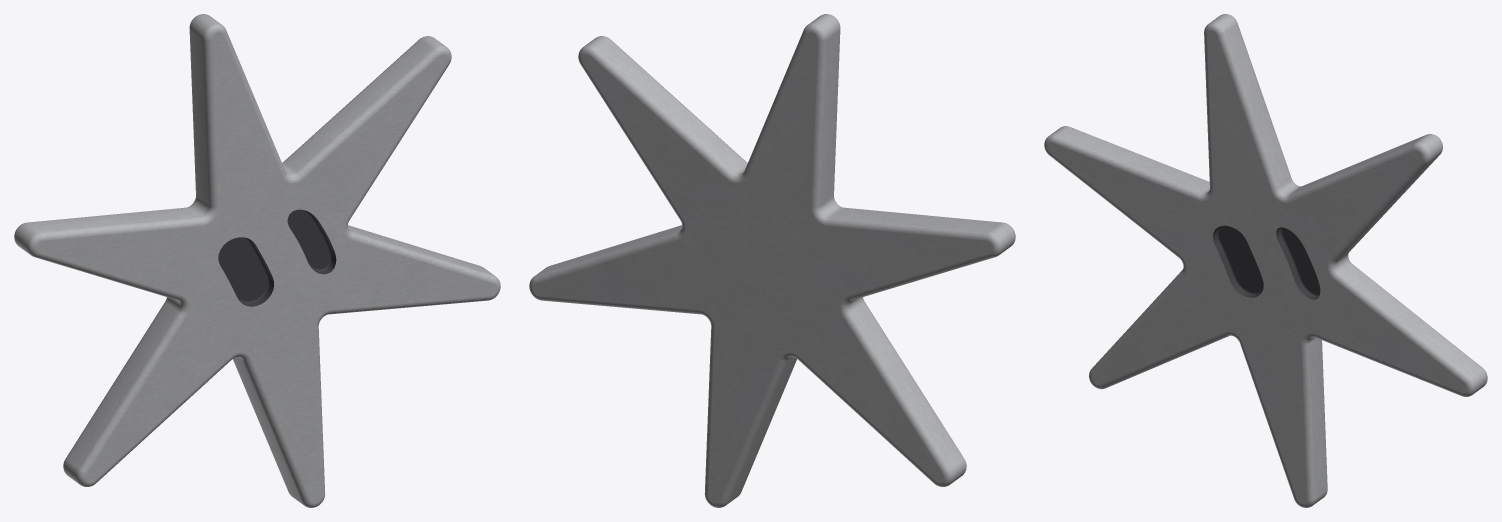
The model's file is avatar.glb.
The picture shows the model from 3 angles, left to right: view 1: azimuth 30°, elevation 25°; view 2: azimuth 150°, elevation 25°; view 3: azimuth 330°, elevation 25°; orthographic projection. The views are drawn at different scales.
Parts seen in each view (by area): view 1: Avatar_Body; view 2: Avatar_Body; view 3: Avatar_Body.
Boxes of the visible parts, bbox=[...] form: Avatar_Body: bbox=[14, 14, 500, 507]; Avatar_Body: bbox=[529, 14, 1015, 507]; Avatar_Body: bbox=[1044, 14, 1487, 507].
Size of the model in its own units: 2 by 2.05 by 0.14.
Materials: 2 (1 with a texture image).
